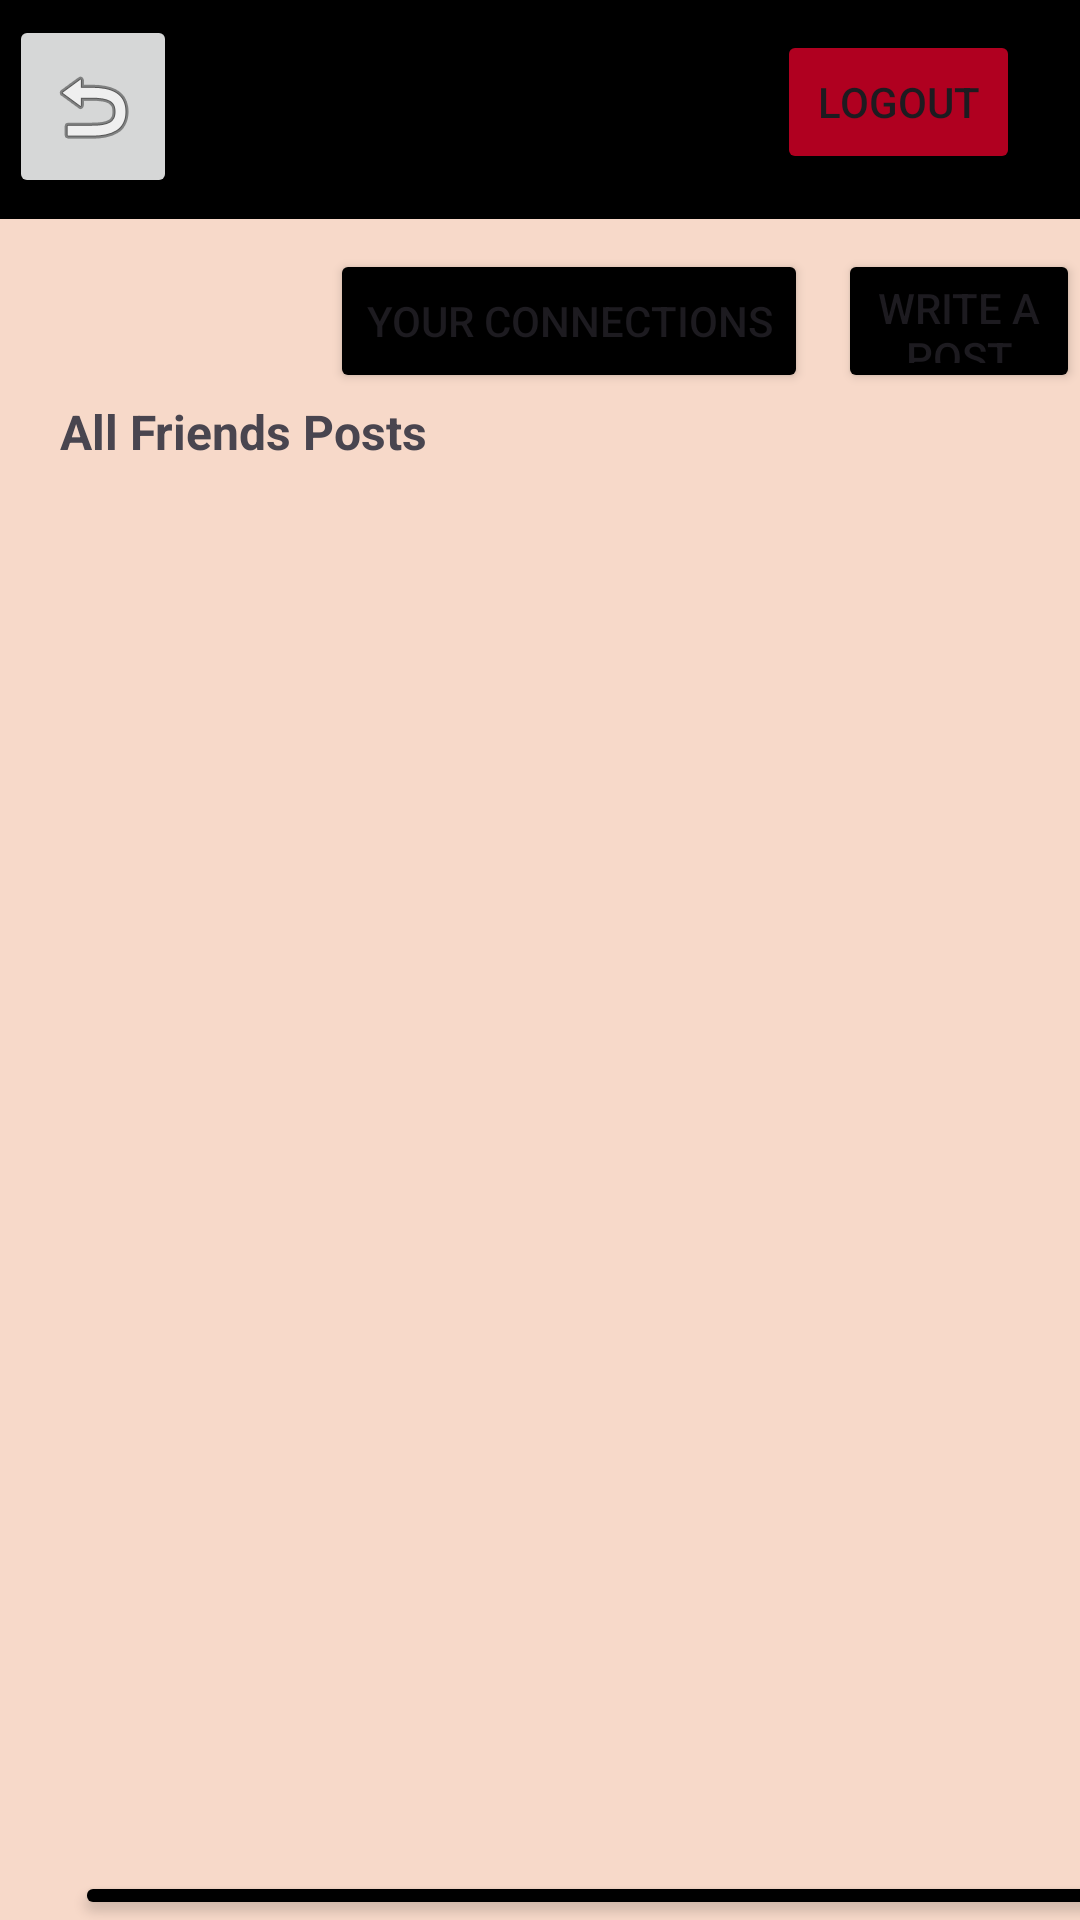

Point at icon controls on the screen. Image size 1080×1920, points as (x,y).
back: (93,106)
